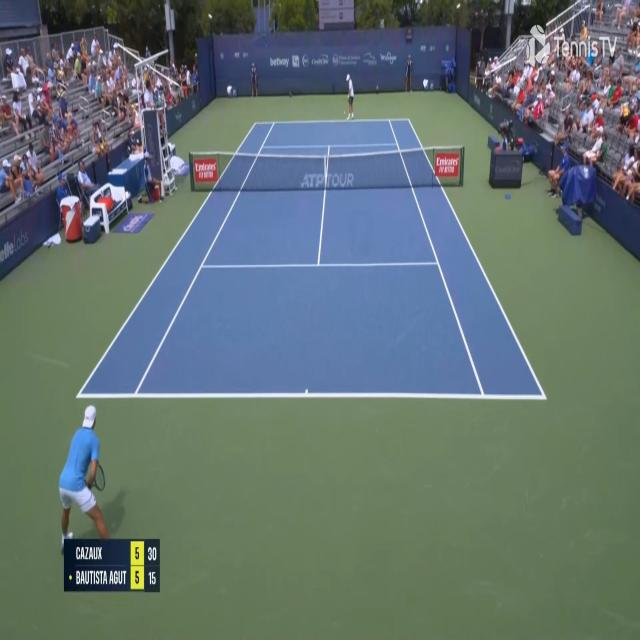tennis-player: (56, 402, 121, 556), (344, 71, 356, 120)
